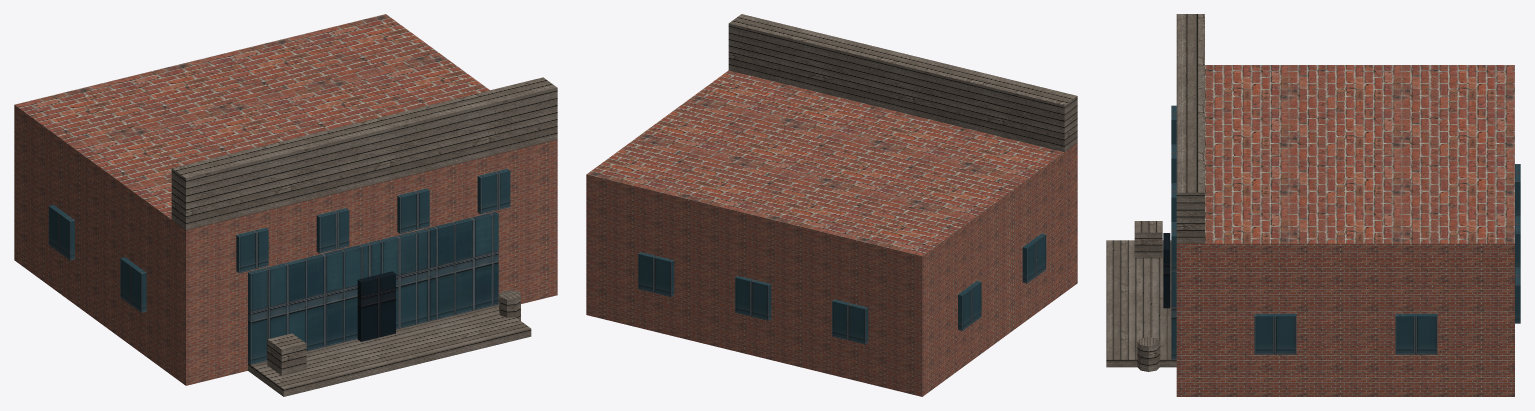
The model's file is rural-general-store_lod0.gltf.
3 views of the same model, side by side, from view 1: azimuth 30°, elevation 25°; view 2: azimuth 150°, elevation 25°; view 3: azimuth 270°, elevation 25° (orthographic). The views are drawn at different scales.
Visible parts, largest first — view 1: rural-general-store_tier0, rural-general-store_fen_07-glass-curtain-blue_0, rural-general-store_tier1, rural-general-store__porch, rural-general-store_fen_07-glass-curtain-blue_1_t, rural-general-store__rocking_chair, rural-general-store__barrels; view 2: rural-general-store_tier0, rural-general-store_tier1, rural-general-store_fen_07-glass-curtain-blue_0; view 3: rural-general-store_tier0, rural-general-store__porch, rural-general-store_tier1, rural-general-store_fen_07-glass-curtain-blue_0, rural-general-store__rocking_chair, rural-general-store__barrels, rural-general-store_fen_07-glass-curtain-blue_1_t.
Boxes of the visible parts, x1,y1,x2,y2 form: rural-general-store_tier0: (14,14,557,385); rural-general-store_fen_07-glass-curtain-blue_0: (48,169,510,364); rural-general-store_tier1: (171,77,557,230); rural-general-store__porch: (248,304,531,396); rural-general-store_fen_07-glass-curtain-blue_1_t: (357,271,395,341); rural-general-store__rocking_chair: (267,333,306,375); rural-general-store__barrels: (499,290,520,320); rural-general-store_tier0: (586,70,1077,396); rural-general-store_tier1: (728,14,1077,152); rural-general-store_fen_07-glass-curtain-blue_0: (638,233,1046,344); rural-general-store_tier0: (1176,65,1514,396); rural-general-store__porch: (1106,240,1176,367); rural-general-store_tier1: (1176,14,1204,243); rural-general-store_fen_07-glass-curtain-blue_0: (1171,105,1520,359); rural-general-store__rocking_chair: (1134,221,1162,258); rural-general-store__barrels: (1137,337,1159,371); rural-general-store_fen_07-glass-curtain-blue_1_t: (1163,233,1170,308).
Bounding box in the file's own units: 15.4 × 8 × 14.7.
